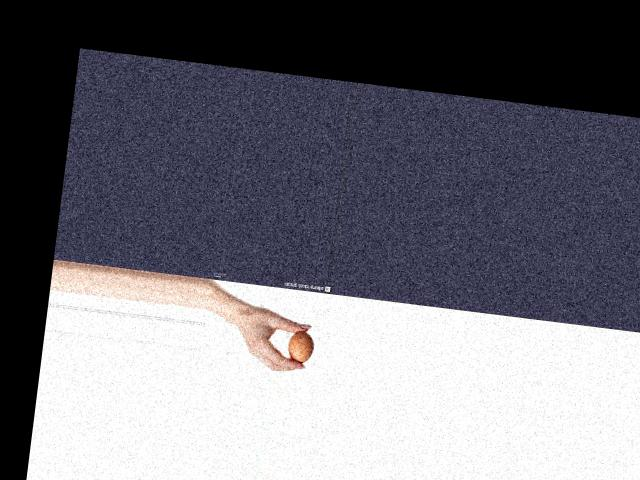egg: (285, 329, 315, 363)
